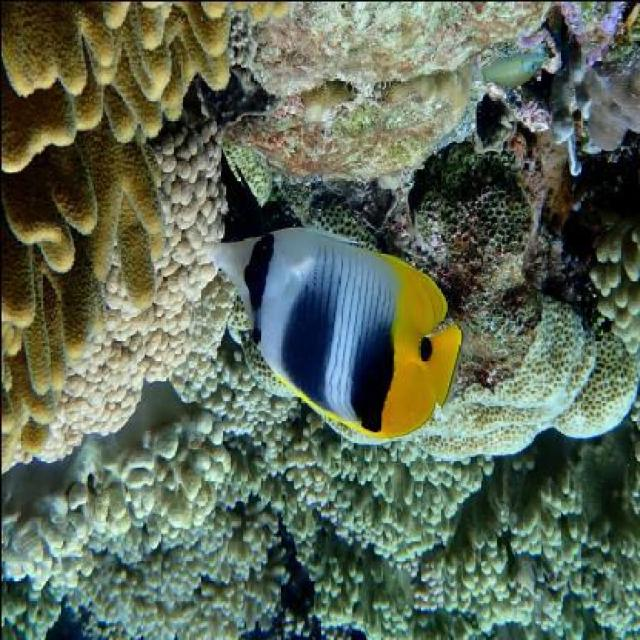ButterflyFish: (203, 233, 462, 446)
